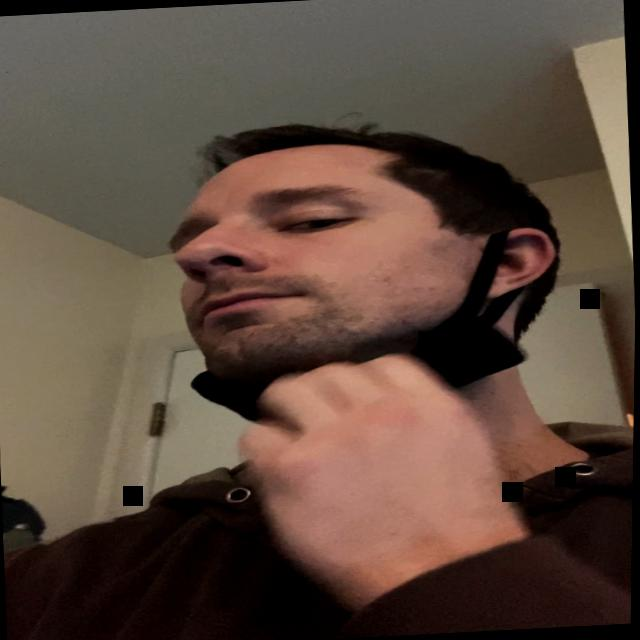NO-Mask: (155, 128, 543, 415)
